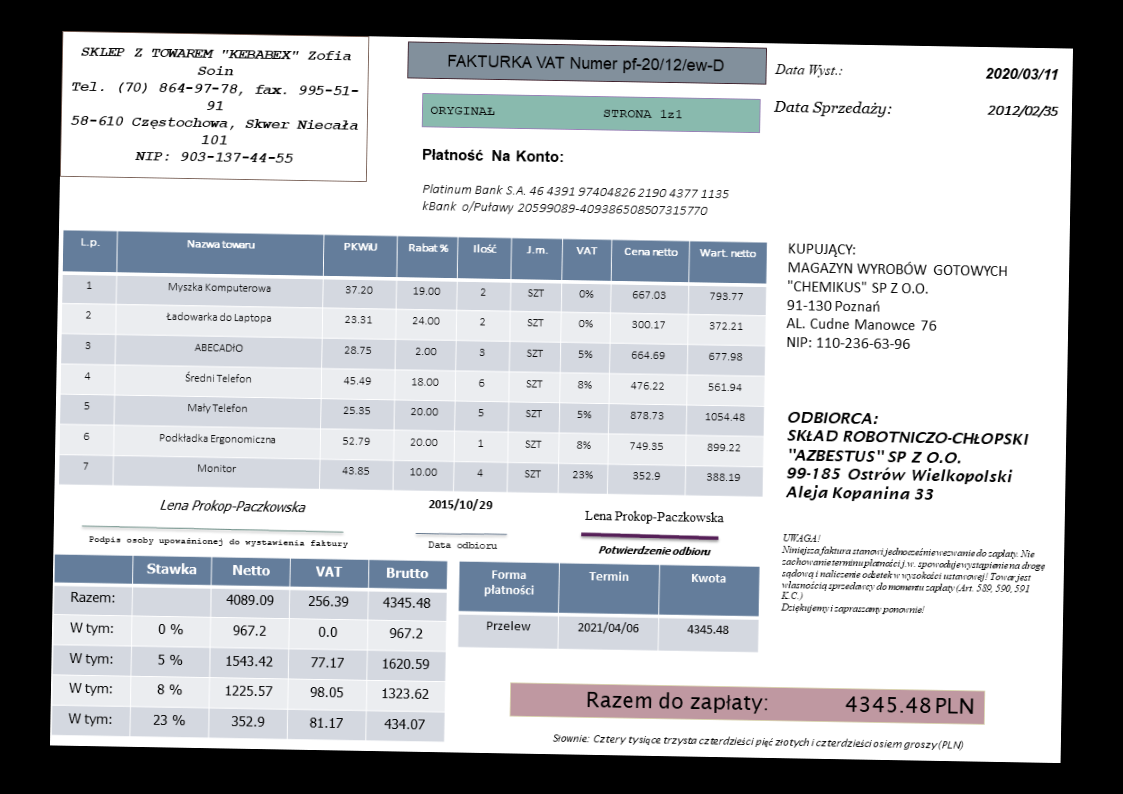Table: (56, 229, 769, 499), (51, 553, 449, 744), (457, 560, 762, 653)
TextBox: (66, 44, 363, 166), (783, 238, 1011, 354), (779, 530, 1049, 620), (784, 408, 1031, 506), (418, 180, 731, 219), (585, 688, 975, 719), (551, 731, 966, 752), (444, 49, 728, 77), (429, 102, 686, 122), (86, 534, 350, 550), (158, 496, 308, 517), (420, 145, 566, 166), (581, 506, 724, 526), (772, 98, 895, 119), (596, 542, 712, 558), (984, 65, 1060, 83), (774, 60, 844, 79), (427, 495, 495, 514), (985, 102, 1059, 119), (426, 538, 498, 553)
